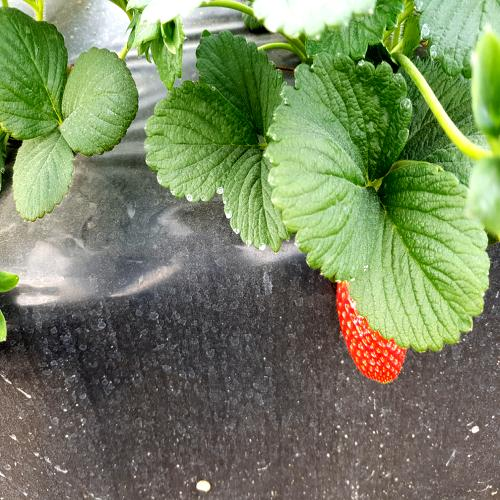ripe: (328, 241, 418, 401)
